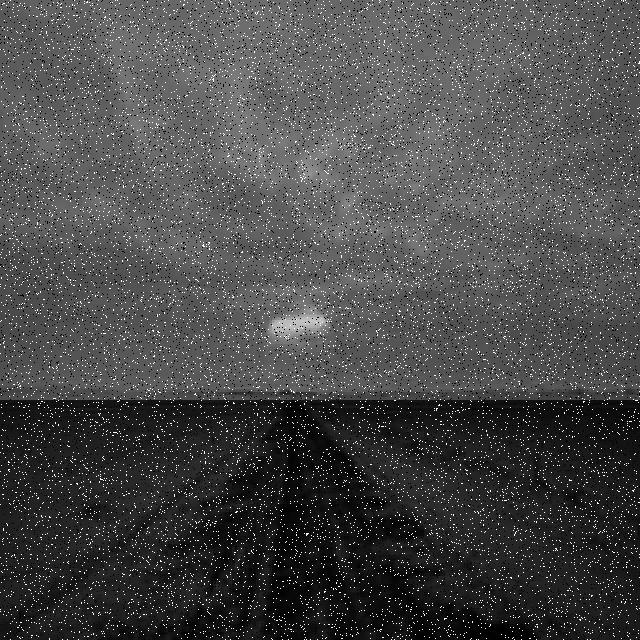ice-road: (95, 401, 536, 640)
